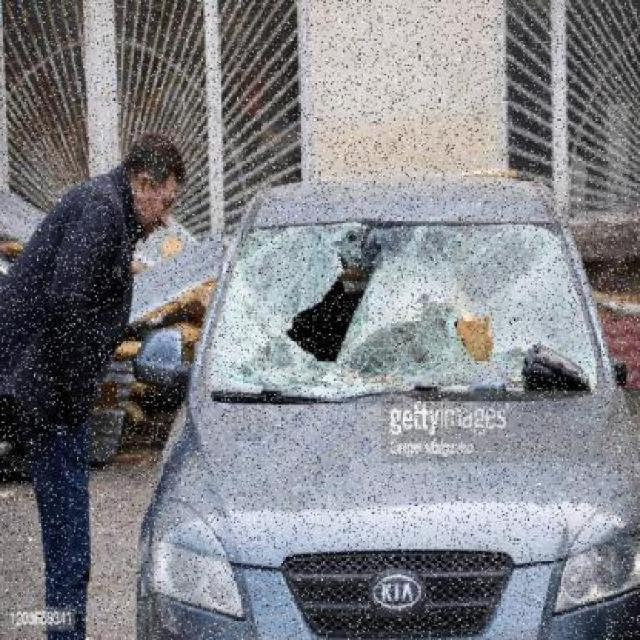Front-Windscreen-Damage: (203, 199, 611, 442)
